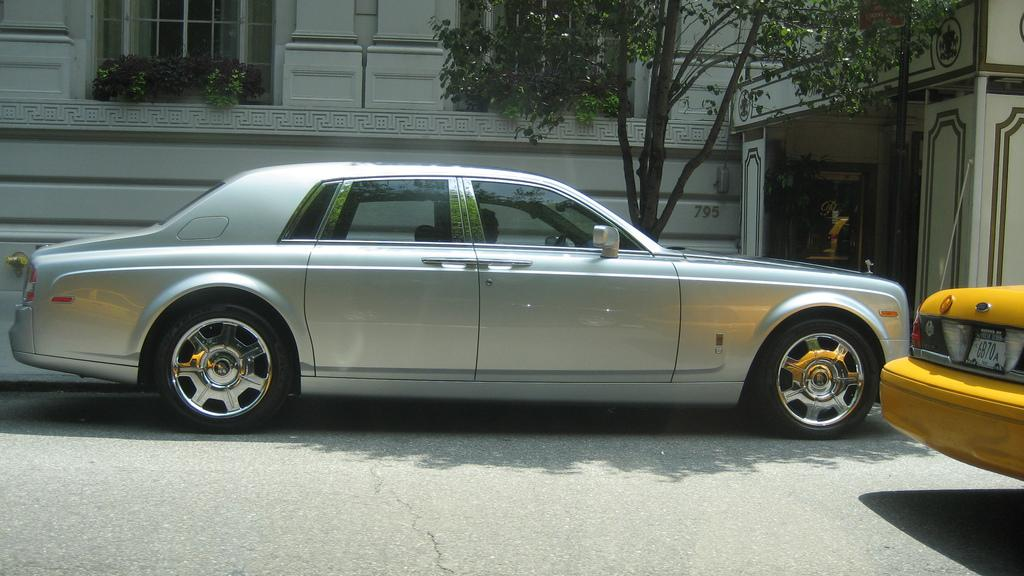taxi: (880, 286, 1024, 483)
